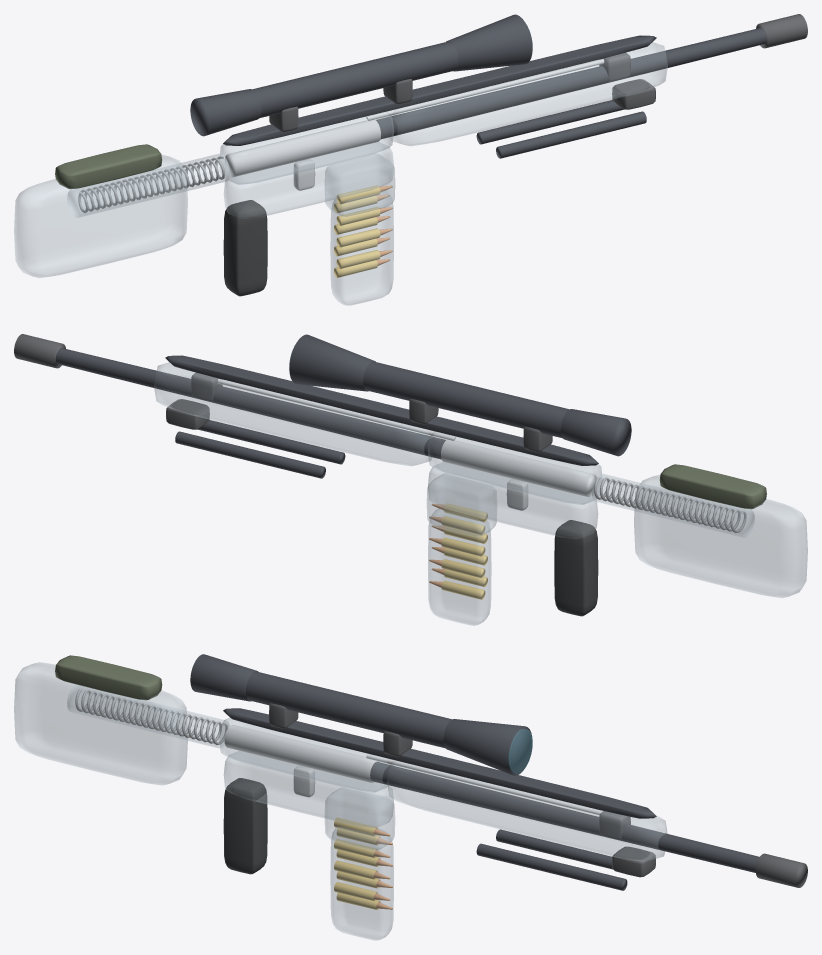
The model's file is uar10-glass.glb.
3 renders of one model, top to bottom at view 1: azimuth 30°, elevation 25°; view 2: azimuth 150°, elevation 25°; view 3: azimuth 330°, elevation 25°, orthographic.
Parts seen in each view (by area): view 1: dmr_stock, handguard_dmr, lower_receiver, barrel_508mm, upper_receiver, mag_20rd, top_rail, scope_tube, buffer_tube, pistol_grip, bcg_ar10, magwell (+13 smaller); view 2: dmr_stock, handguard_dmr, lower_receiver, barrel_508mm, upper_receiver, mag_20rd, top_rail, scope_tube, buffer_tube, pistol_grip, bcg_ar10, magwell (+13 smaller); view 3: dmr_stock, handguard_dmr, lower_receiver, barrel_508mm, upper_receiver, mag_20rd, top_rail, scope_tube, buffer_tube, pistol_grip, magwell, bcg_ar10 (+14 smaller).
Part boxes in pixels (left/top/right/bottom): dmr_stock: left=14, top=154, right=187, bottom=278; handguard_dmr: left=388, top=42, right=667, bottom=146; lower_receiver: left=223, top=142, right=393, bottom=218; barrel_508mm: left=376, top=28, right=766, bottom=139; upper_receiver: left=220, top=112, right=393, bottom=184; mag_20rd: left=330, top=190, right=393, bottom=305; top_rail: left=223, top=35, right=656, bottom=145; scope_tube: left=252, top=41, right=458, bottom=118; buffer_tube: left=67, top=153, right=229, bottom=217; pistol_grip: left=223, top=200, right=267, bottom=296; bcg_ar10: left=225, top=119, right=380, bottom=177; magwell: left=325, top=153, right=395, bottom=216; dmr_stock: left=634, top=474, right=807, bottom=598; handguard_dmr: left=154, top=362, right=433, bottom=466; lower_receiver: left=428, top=462, right=598, bottom=538; barrel_508mm: left=55, top=348, right=445, bottom=459; upper_receiver: left=428, top=432, right=602, bottom=504; mag_20rd: left=428, top=509, right=491, bottom=625; top_rail: left=165, top=355, right=598, bottom=465; scope_tube: left=363, top=361, right=569, bottom=438; buffer_tube: left=592, top=473, right=754, bottom=537; pistol_grip: left=554, top=520, right=598, bottom=616; bcg_ar10: left=441, top=439, right=596, bottom=497; magwell: left=426, top=473, right=496, bottom=536; dmr_stock: left=14, top=662, right=187, bottom=785; handguard_dmr: left=387, top=760, right=667, bottom=861; lower_receiver: left=223, top=751, right=393, bottom=827; barrel_508mm: left=370, top=761, right=759, bottom=872; upper_receiver: left=219, top=717, right=393, bottom=792; mag_20rd: left=330, top=827, right=393, bottom=940; top_rail: left=223, top=708, right=656, bottom=818; scope_tube: left=246, top=671, right=451, bottom=747; buffer_tube: left=67, top=685, right=229, bottom=748; pistol_grip: left=223, top=778, right=267, bottom=874; magwell: left=324, top=787, right=395, bottom=850; bcg_ar10: left=224, top=724, right=379, bottom=782.
Bounding box in the file's own units: 1.03 × 0.3075 × 0.058.
